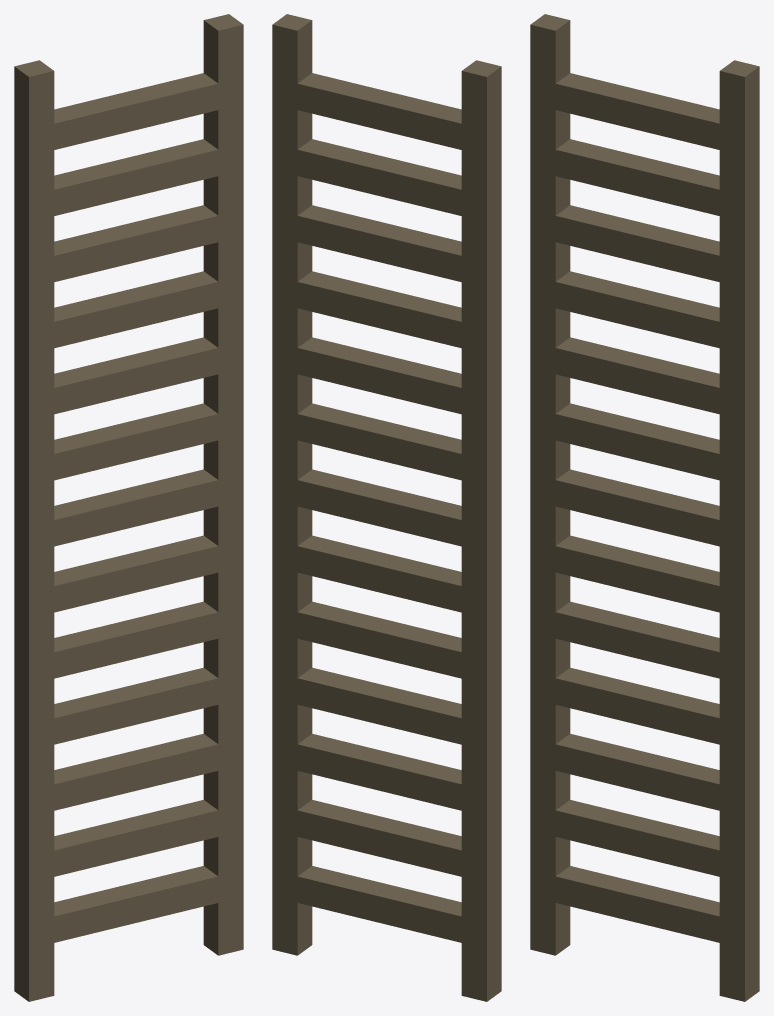
File: ladder.fbx
3 views of the same model, side by side, from view 1: azimuth 30°, elevation 25°; view 2: azimuth 150°, elevation 25°; view 3: azimuth 330°, elevation 25° (orthographic).
Parts seen in each view (by area): view 1: pasted__pCube2 (×8), pCube1, pasted__pCube1, pasted__pasted__pCube2 (×4), pCube2; view 2: pasted__pCube2 (×8), pCube1, pasted__pCube1, pasted__pasted__pCube2 (×4), pCube2; view 3: pasted__pCube2 (×8), pasted__pCube1, pCube1, pasted__pasted__pCube2 (×4), pCube2.
Part boxes in pixels (<box>): pasted__pCube2 (×8): <box>40,337,229,878</box>; pCube1: <box>14,60,54,1001</box>; pasted__pCube1: <box>203,14,243,955</box>; pasted__pasted__pCube2 (×4): <box>40,73,229,348</box>; pCube2: <box>40,866,228,945</box>; pasted__pCube2 (×8): <box>286,337,475,878</box>; pCube1: <box>461,60,501,1001</box>; pasted__pCube1: <box>272,14,312,955</box>; pasted__pasted__pCube2 (×4): <box>286,73,475,349</box>; pCube2: <box>287,866,475,945</box>; pasted__pCube2 (×8): <box>542,337,730,878</box>; pasted__pCube1: <box>719,60,759,1001</box>; pCube1: <box>530,14,570,955</box>; pasted__pasted__pCube2 (×4): <box>541,73,729,348</box>; pCube2: <box>542,866,719,942</box>.
Bounding box in the file's own units: 85 × 350 × 10.
